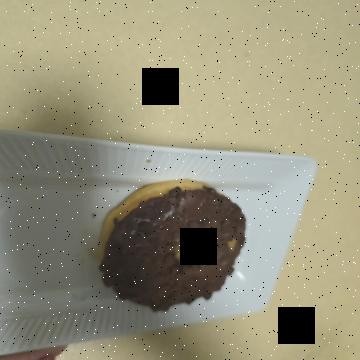doughnut: (155, 104, 316, 278)
